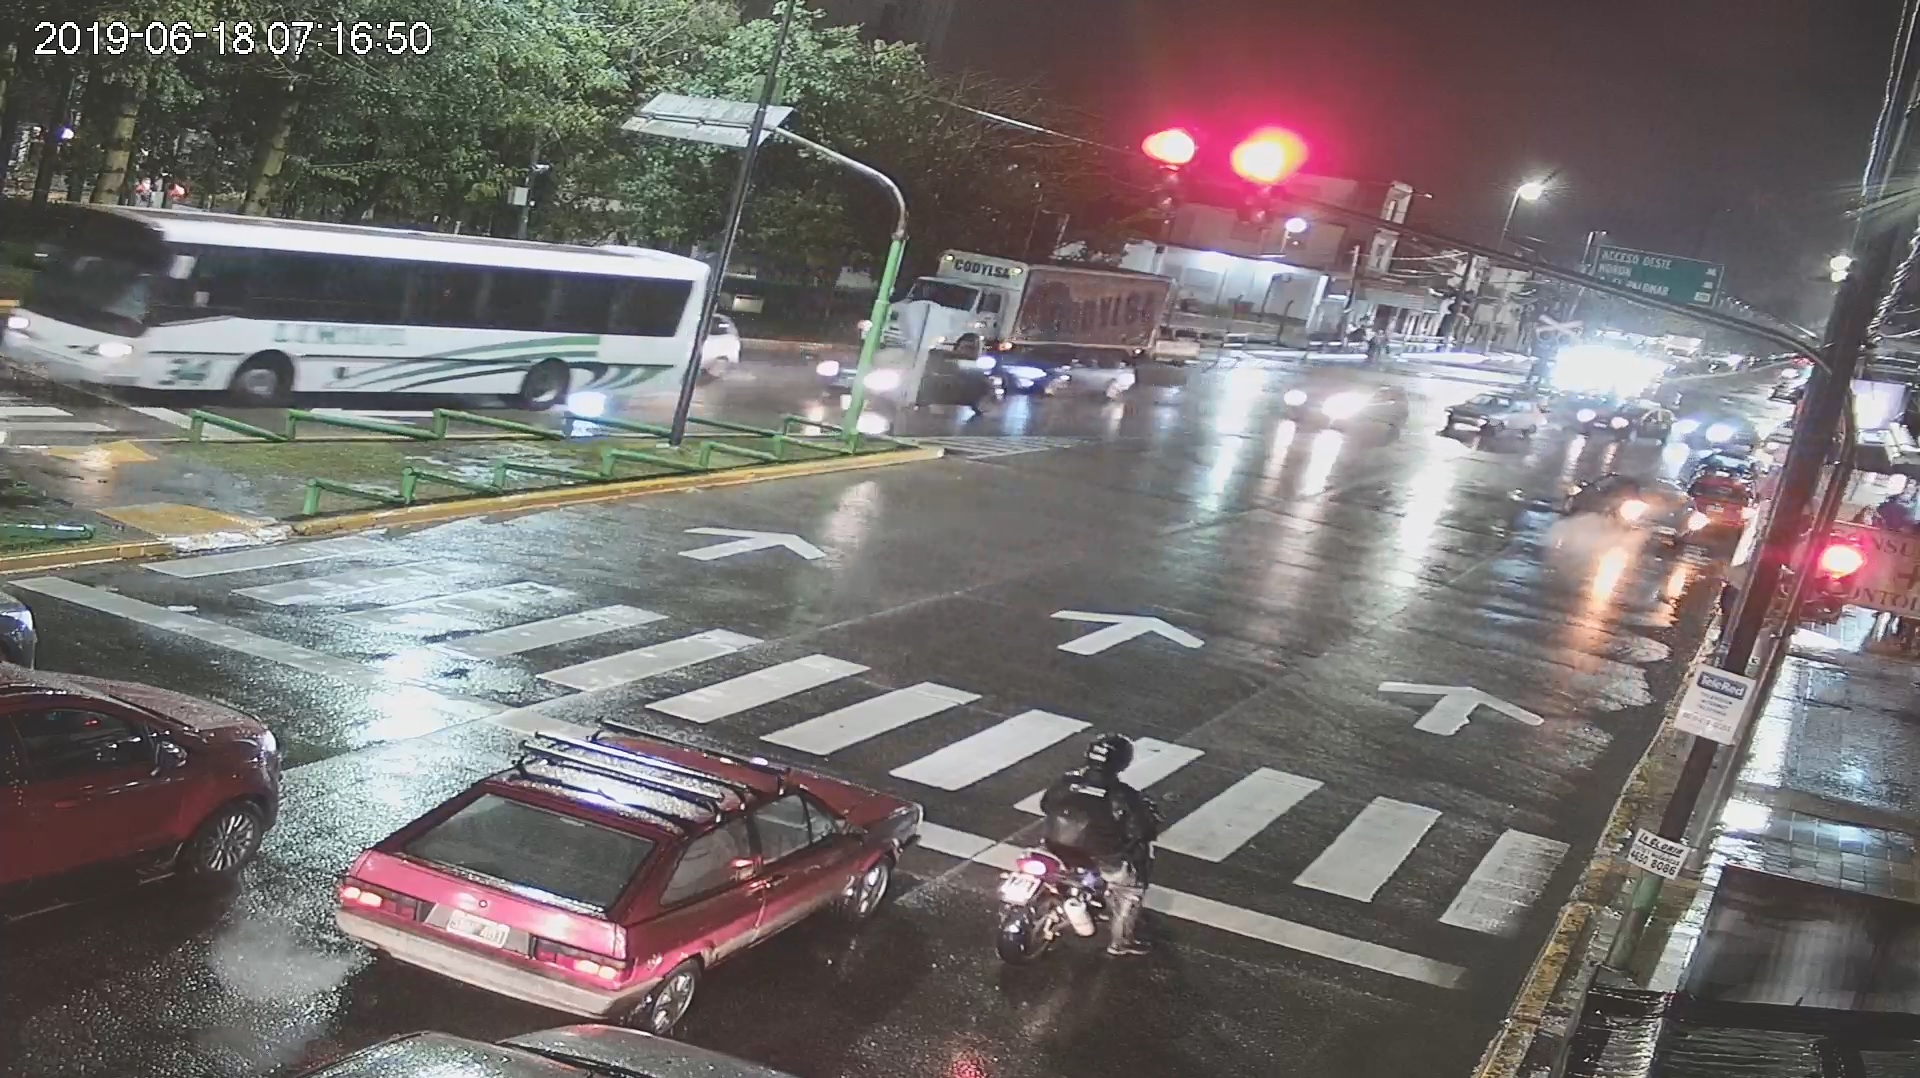bus: (3, 185, 713, 447)
car: (332, 695, 938, 1020), (3, 654, 301, 918)
motorcycle: (982, 718, 1184, 978)
